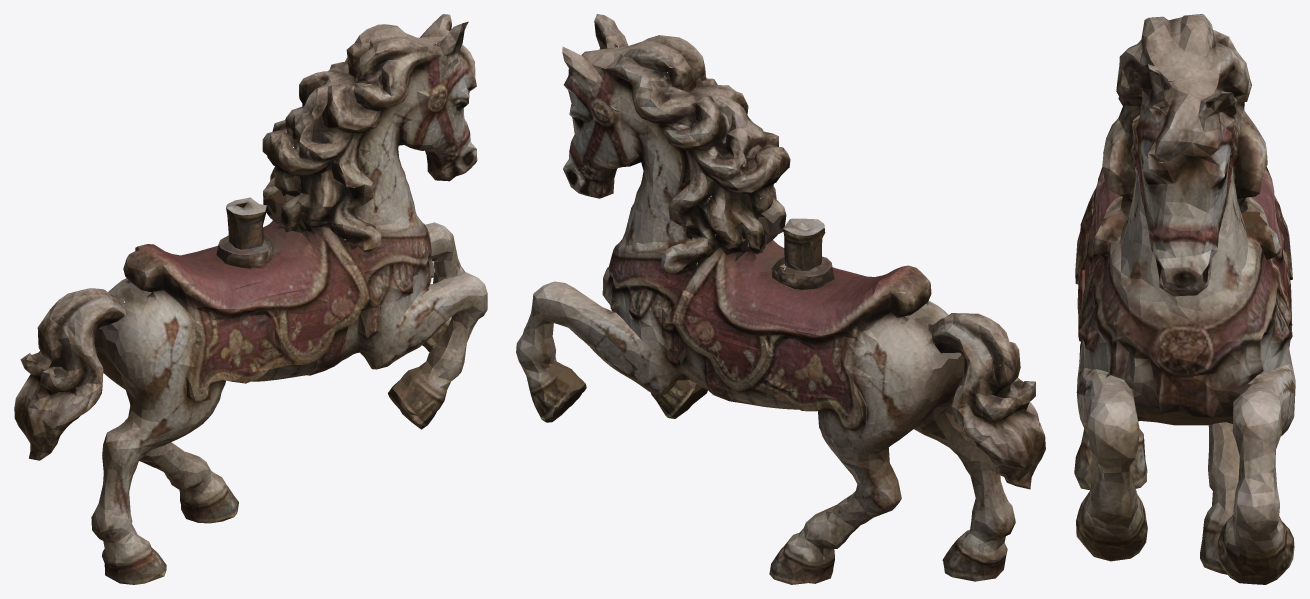
The model's file is park_carousel_horse_1117.glb.
3 renders of one model, left to right at view 1: azimuth 30°, elevation 25°; view 2: azimuth 150°, elevation 25°; view 3: azimuth 270°, elevation 25°, orthographic. The views are drawn at different scales.
Parts seen in each view (by area): view 1: world; view 2: world; view 3: world.
Part boxes in pixels (<box>): world: <box>14,14,487,584</box>; world: <box>516,14,1045,584</box>; world: <box>1074,14,1295,584</box>.
Bounding box in the file's own units: 1.07 × 1 × 0.3096.
Materials: 1 (1 with a texture image).
